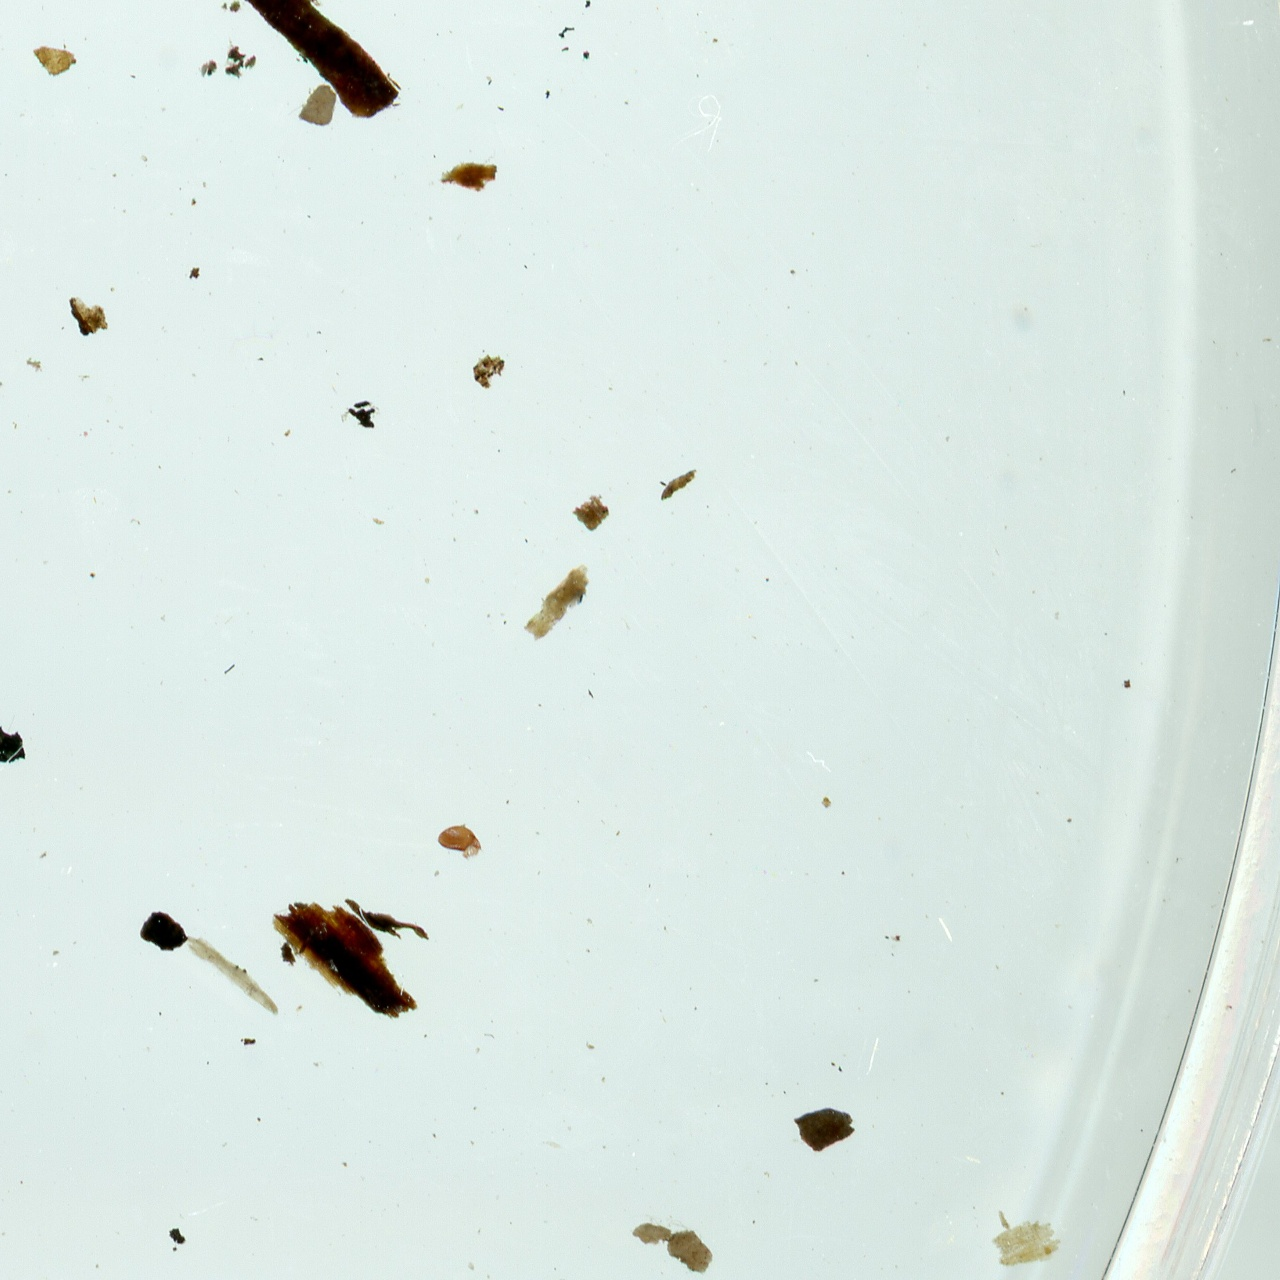arthropod: (436, 821, 484, 863)
